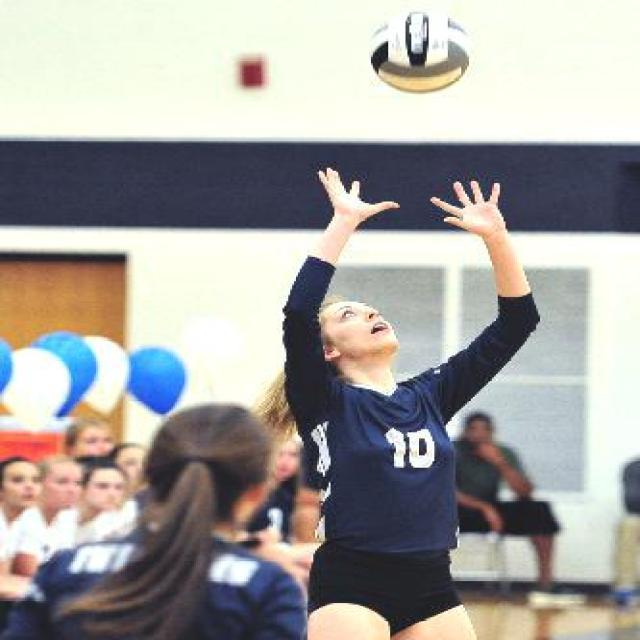volleyball: (368, 10, 472, 93)
